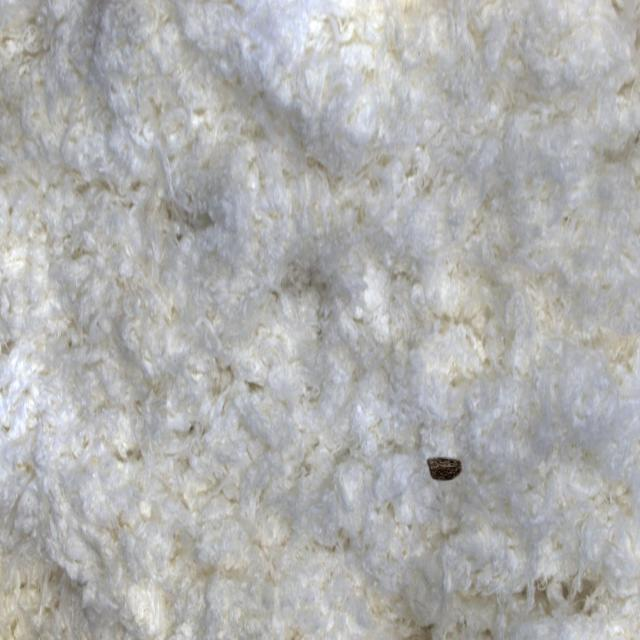dust: (401, 399, 493, 526)
